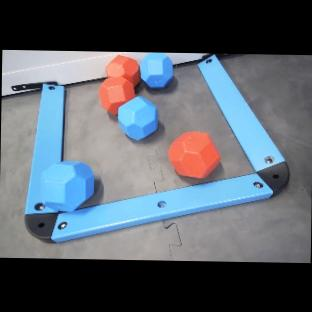Parking - Part: (24, 54, 289, 242)
